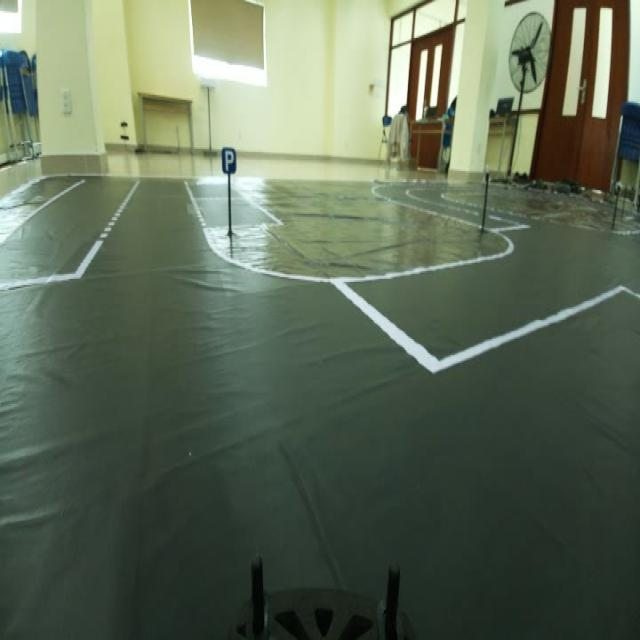parking: (218, 137, 239, 183)
